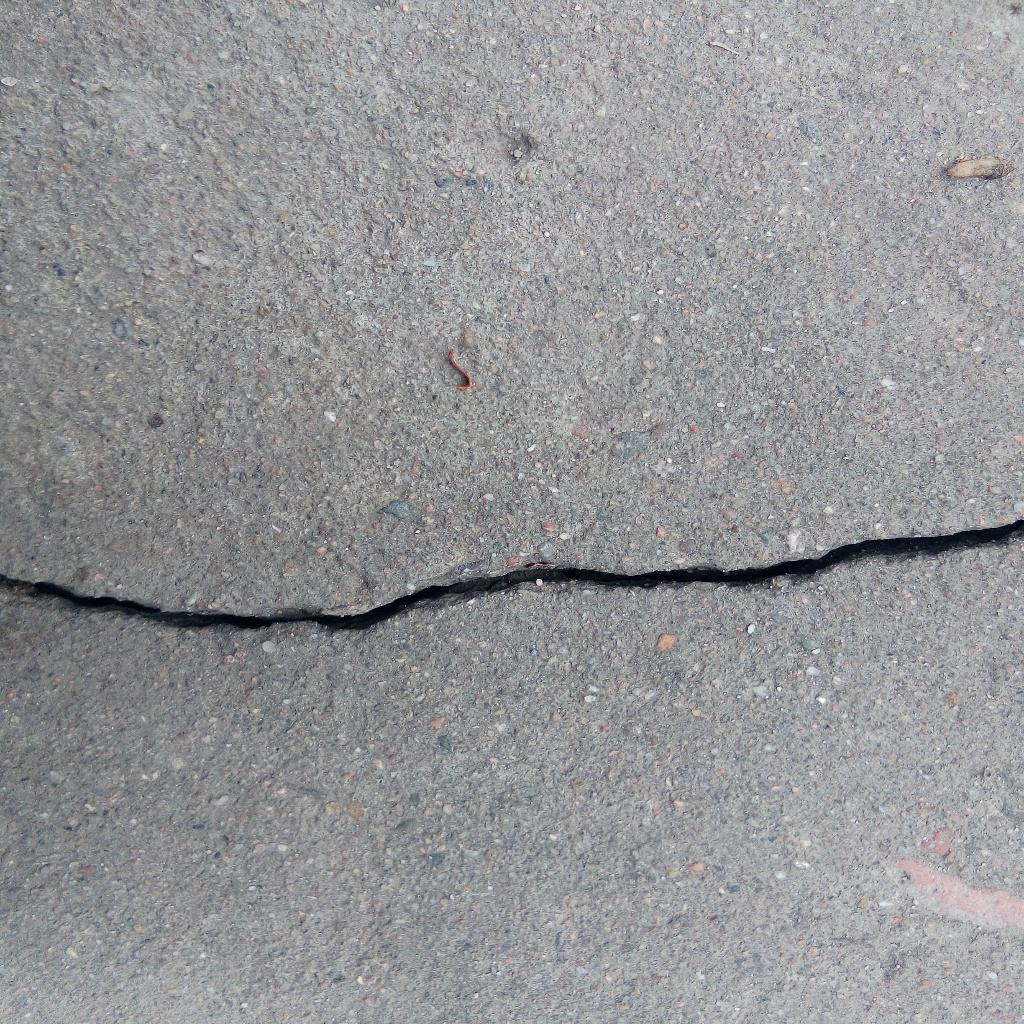Crack: (1, 513, 1024, 633)
